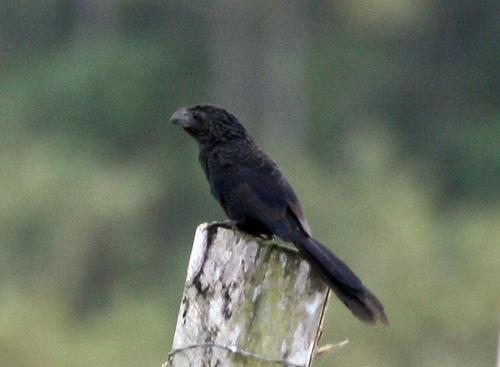004.Groove_billed_Ani: (167, 101, 391, 331)
